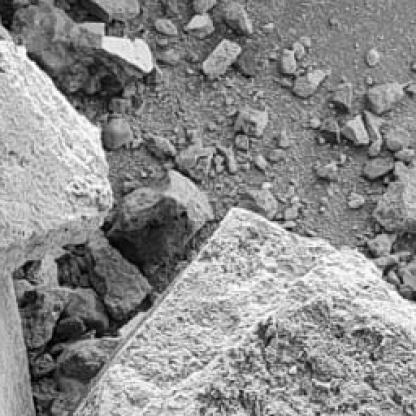cementitious_debris: (2, 0, 414, 413)
